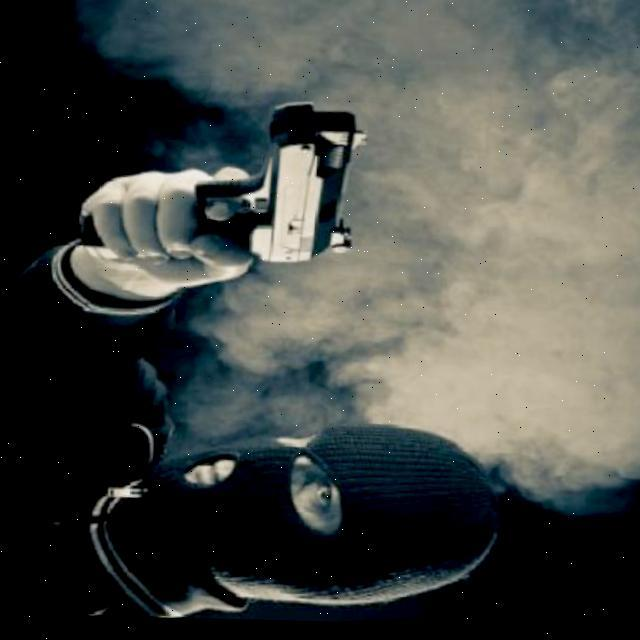gun: (178, 92, 382, 282)
